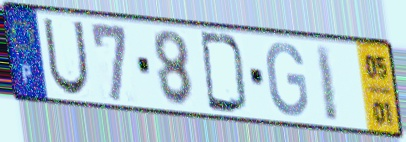7: (88, 18, 131, 105)
8: (152, 28, 197, 110)
D: (198, 29, 251, 117)
G: (264, 40, 311, 119)
I: (312, 42, 341, 125)
U: (40, 15, 92, 98)
